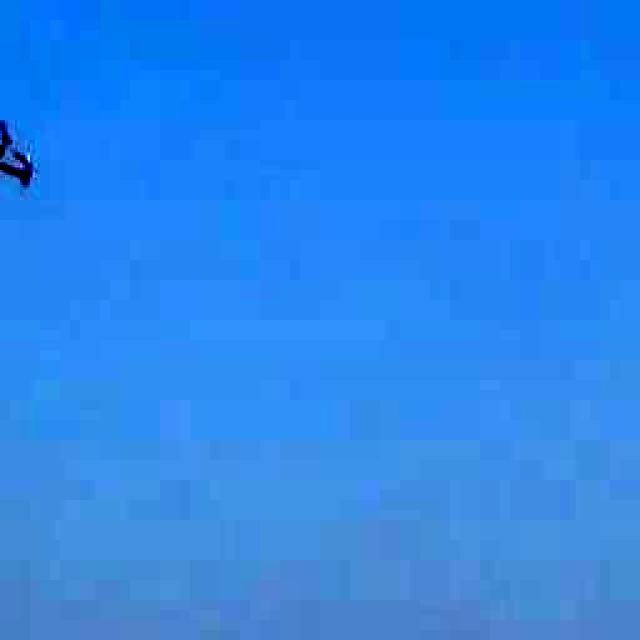bird: (0, 119, 31, 196)
